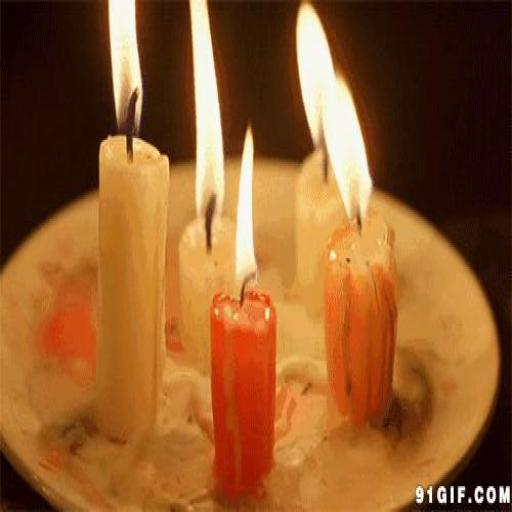fire: (284, 0, 380, 226), (179, 0, 226, 222), (84, 4, 158, 142), (228, 123, 265, 280)
